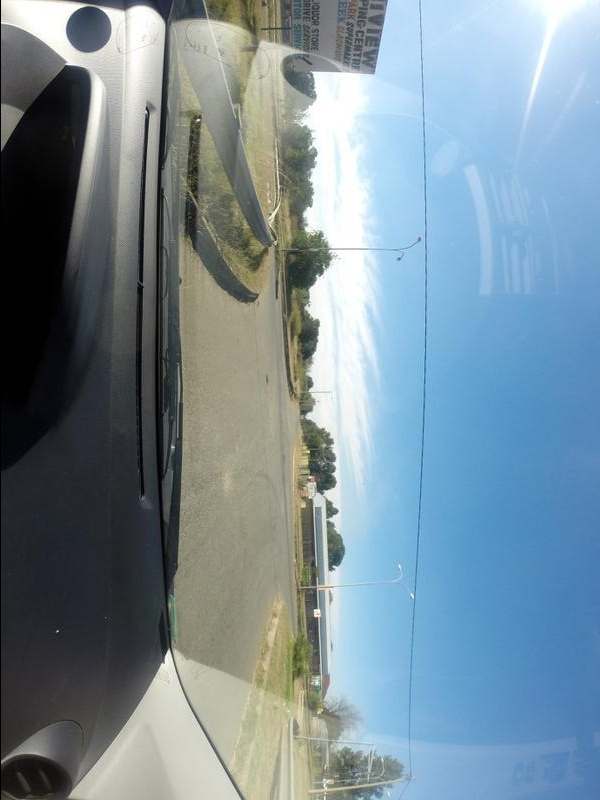pothole: (260, 372, 273, 401)
